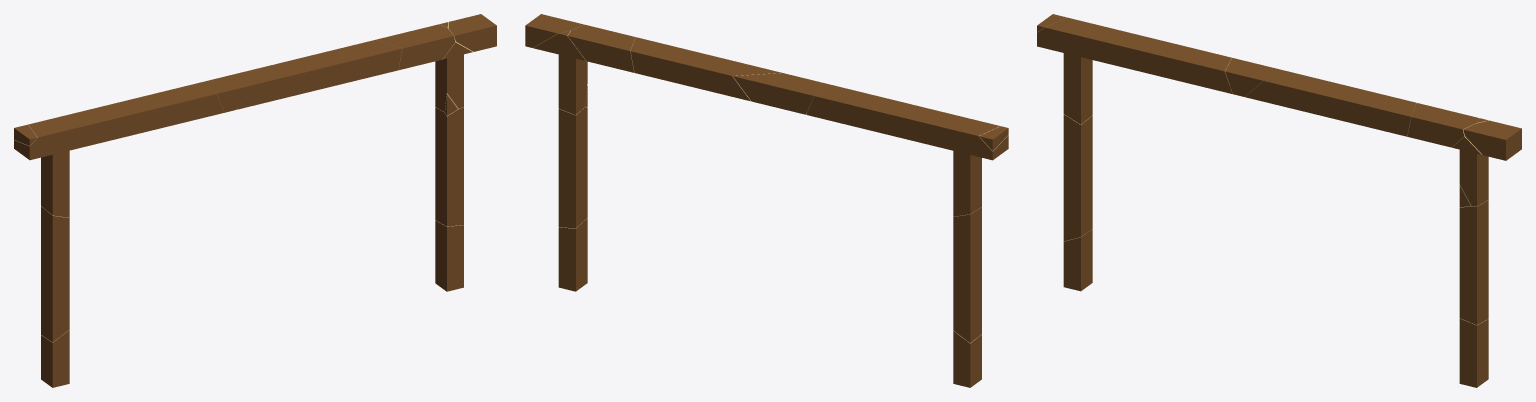
File: roof_support_shattered.glb
3 views of the same model, side by side, from view 1: azimuth 30°, elevation 25°; view 2: azimuth 150°, elevation 25°; view 3: azimuth 330°, elevation 25° (orthographic).
Parts seen in each view (by area): view 1: support_cell.007, support_cell.006, support_cell.002, support_cell.015, support_cell.005, support_cell.016, support_cell.003, support_cell.009, support_cell, support_cell.008, support_cell.004; view 2: support_cell.007, support_cell.006, support_cell.002, support_cell.015, support_cell.009, support_cell.005, support_cell.016, support_cell.003, support_cell, support_cell.008, support_cell.004, support_cell.001 (+1 smaller); view 3: support_cell.007, support_cell.006, support_cell.002, support_cell.015, support_cell.005, support_cell.016, support_cell.003, support_cell.004, support_cell.008, support_cell.009, support_cell.
Part boxes in pixels (left/top/right/bottom): support_cell.007: left=14, top=84, right=224, bottom=160; support_cell.006: left=237, top=39, right=402, bottom=109; support_cell.002: left=41, top=206, right=69, bottom=342; support_cell.015: left=435, top=107, right=463, bottom=226; support_cell.005: left=376, top=24, right=455, bottom=70; support_cell.016: left=435, top=220, right=463, bottom=291; support_cell.003: left=41, top=150, right=69, bottom=217; support_cell.009: left=193, top=64, right=273, bottom=112; support_cell: left=435, top=54, right=463, bottom=112; support_cell.008: left=41, top=330, right=69, bottom=387; support_cell.004: left=448, top=14, right=496, bottom=51; support_cell.007: left=806, top=82, right=1008, bottom=160; support_cell.006: left=630, top=37, right=781, bottom=101; support_cell.002: left=953, top=207, right=981, bottom=343; support_cell.015: left=558, top=106, right=587, bottom=228; support_cell.009: left=733, top=73, right=820, bottom=114; support_cell.005: left=568, top=24, right=635, bottom=72; support_cell.016: left=558, top=218, right=587, bottom=291; support_cell.003: left=953, top=151, right=981, bottom=216; support_cell: left=558, top=54, right=587, bottom=114; support_cell.008: left=953, top=331, right=981, bottom=387; support_cell.004: left=525, top=14, right=583, bottom=47; support_cell.001: left=533, top=31, right=585, bottom=60; support_cell.007: left=1037, top=17, right=1232, bottom=93; support_cell.006: left=1245, top=77, right=1416, bottom=136; support_cell.002: left=1063, top=114, right=1092, bottom=241; support_cell.015: left=1459, top=200, right=1488, bottom=324; support_cell.005: left=1407, top=103, right=1479, bottom=147; support_cell.016: left=1459, top=318, right=1488, bottom=387; support_cell.003: left=1063, top=53, right=1092, bottom=124; support_cell.004: left=1463, top=120, right=1521, bottom=160; support_cell.008: left=1063, top=229, right=1092, bottom=291; support_cell.009: left=1225, top=58, right=1313, bottom=96; support_cell: left=1459, top=149, right=1488, bottom=206.
Size of the model in its own units: 3.54 by 1.85 by 0.2072.
